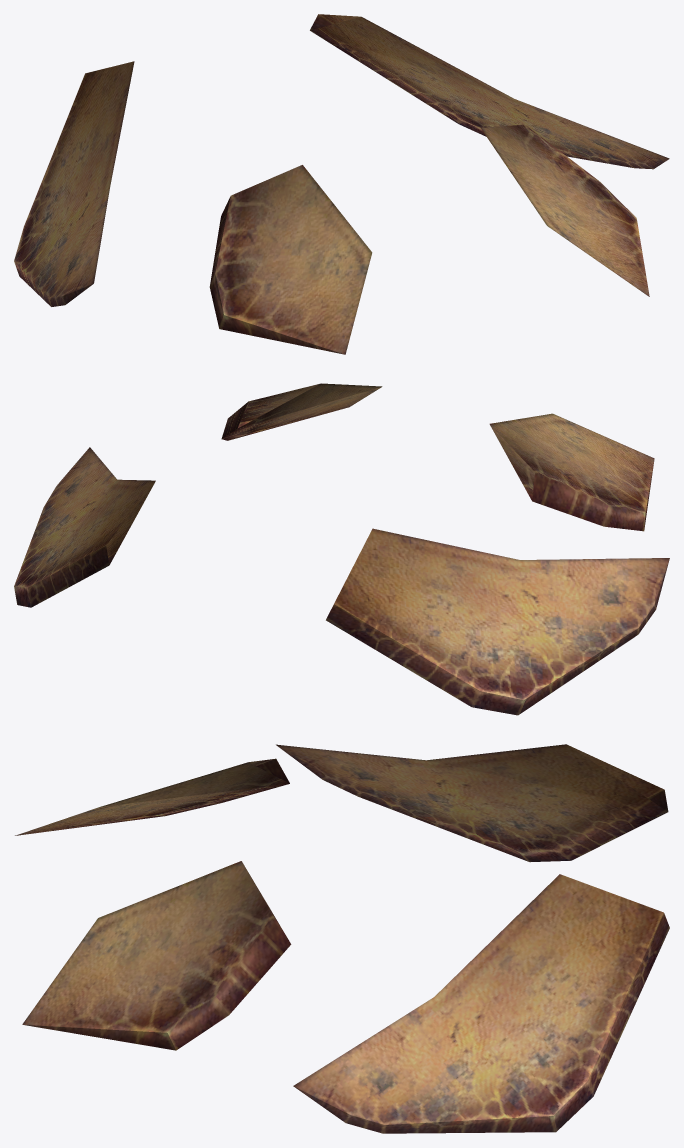
Rendered from S02_ON_KAME_ASI.obj.
3 views of the same model, one above another, from view 1: azimuth 30°, elevation 25°; view 2: azimuth 150°, elevation 25°; view 3: azimuth 270°, elevation 25° (orthographic). The views are drawn at different scales.
Visible parts, largest first — view 1: Object_1; view 2: Object_1; view 3: Object_1.
Boxes of the visible parts, x1,y1,x2,y2 form: Object_1: (14,14,669,354); Object_1: (14,383,669,715); Object_1: (15,744,669,1133).
Bounding box in the file's own units: 443 × 121 × 378.
Materials: 1 (1 with a texture image).
